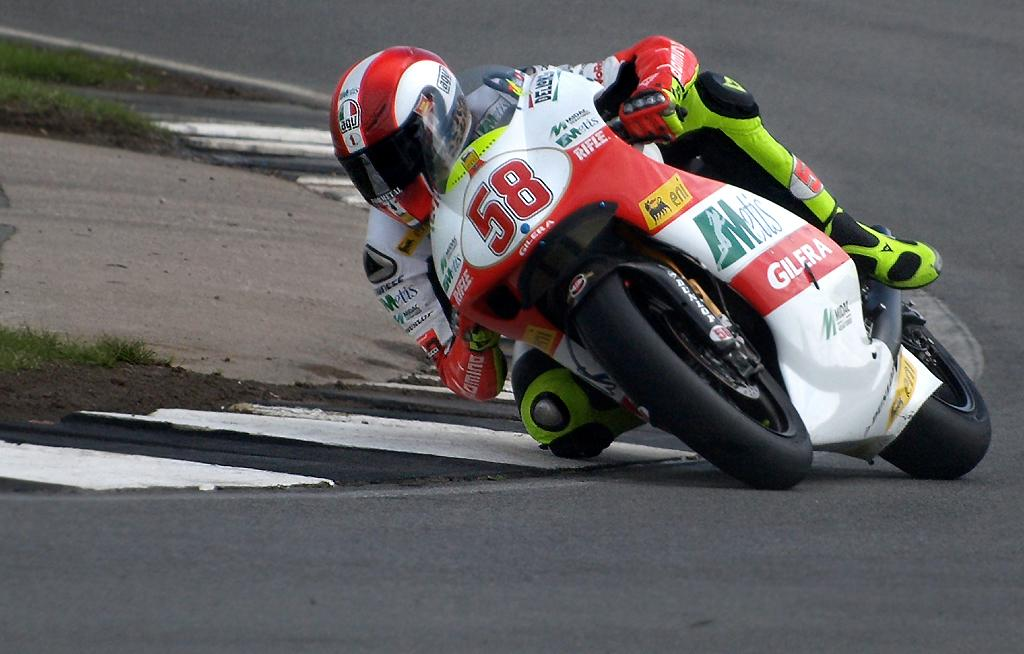helmet: (329, 45, 476, 230)
